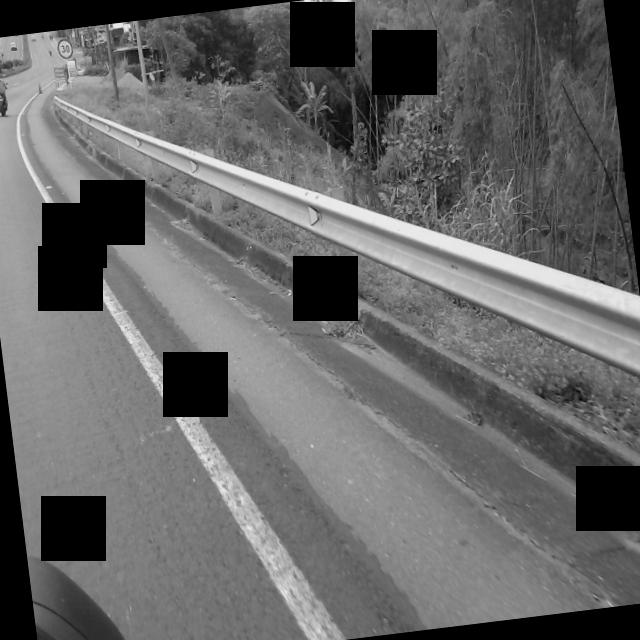DITCH: (0, 0, 640, 640), (17, 16, 640, 640)
